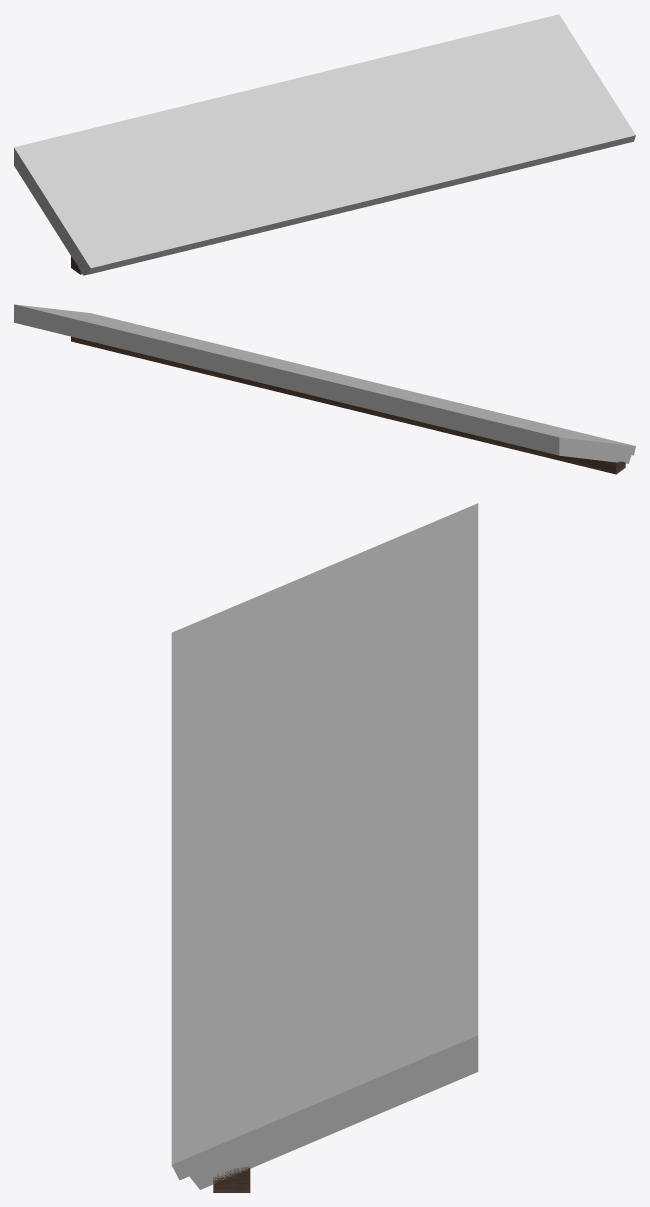
The model's file is kawara_2x0t_a1middle.fbx.
The picture shows the model from 3 angles, top to bottom: view 1: azimuth 30°, elevation 25°; view 2: azimuth 150°, elevation 25°; view 3: azimuth 270°, elevation 25°; orthographic projection. The views are drawn at different scales.
Parts seen in each view (by area): view 1: kawara_2x0t_a1middle; view 2: kawara_2x0t_a1middle; view 3: kawara_2x0t_a1middle.
Boxes of the visible parts, x1,y1,x2,y2 form: kawara_2x0t_a1middle: [14, 14, 635, 275]; kawara_2x0t_a1middle: [14, 304, 635, 474]; kawara_2x0t_a1middle: [171, 503, 478, 1192].
Size of the model in its own units: 440 by 60.83 by 107.
